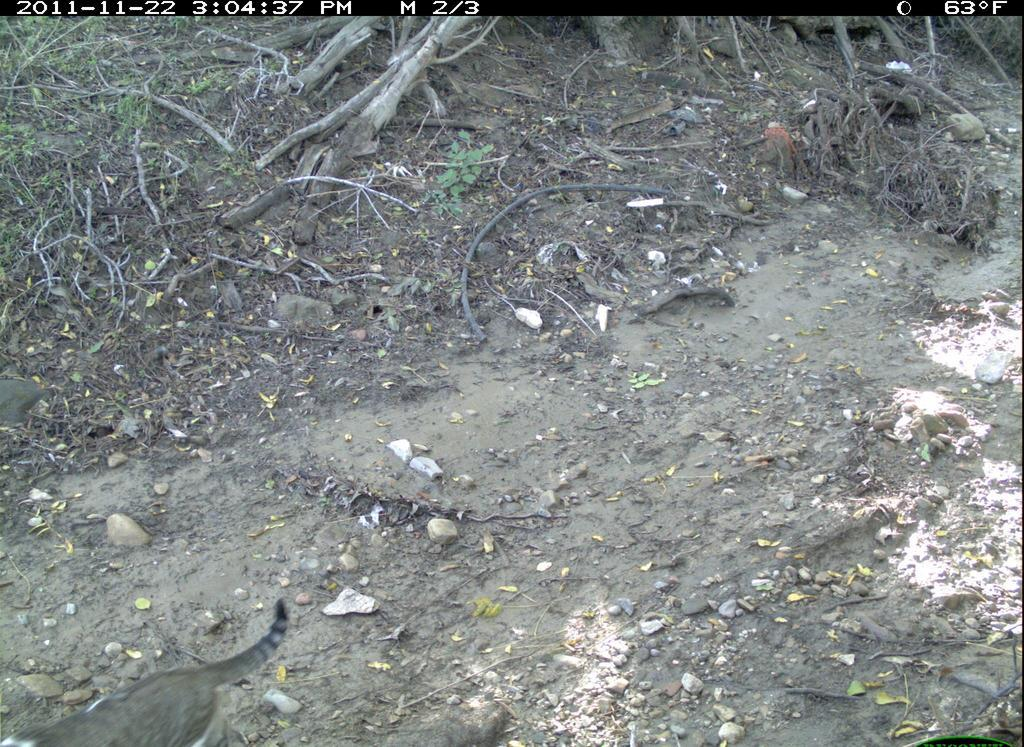cat: (1, 583, 313, 743)
